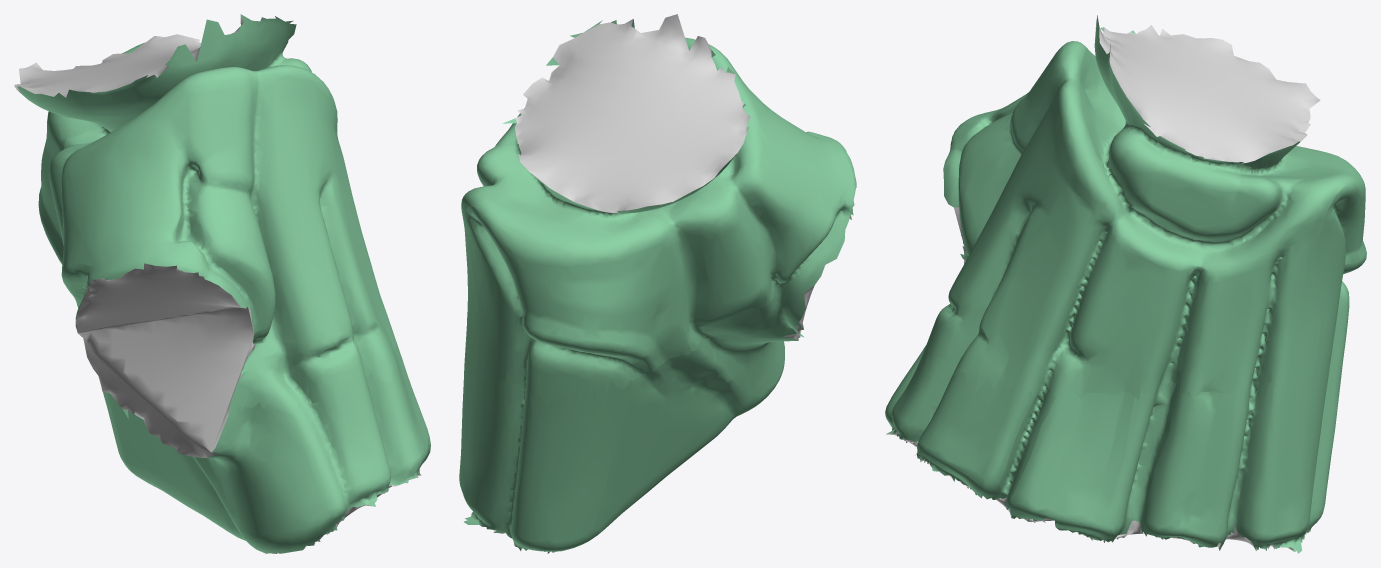
File: Hi3D_Segmented Pastel Female Android 3D Model Asset_part27_20261014_192059.glb
3 views of the same model, side by side, from view 1: azimuth 30°, elevation 25°; view 2: azimuth 150°, elevation 25°; view 3: azimuth 270°, elevation 25° (orthographic). The views are drawn at different scales.
Visible parts, largest first — view 1: Hi3D_Segmented Pastel Female Android 3D Model Asset_part27_2; view 2: Hi3D_Segmented Pastel Female Android 3D Model Asset_part27_2; view 3: Hi3D_Segmented Pastel Female Android 3D Model Asset_part27_2.
Part boxes in pixels (left/top/right/bottom): Hi3D_Segmented Pastel Female Android 3D Model Asset_part27_2: left=14, top=14, right=430, bottom=553; Hi3D_Segmented Pastel Female Android 3D Model Asset_part27_2: left=459, top=14, right=856, bottom=553; Hi3D_Segmented Pastel Female Android 3D Model Asset_part27_2: left=885, top=15, right=1366, bottom=553.
Size of the model in its own units: 0.0356 by 0.0534 by 0.0464.
